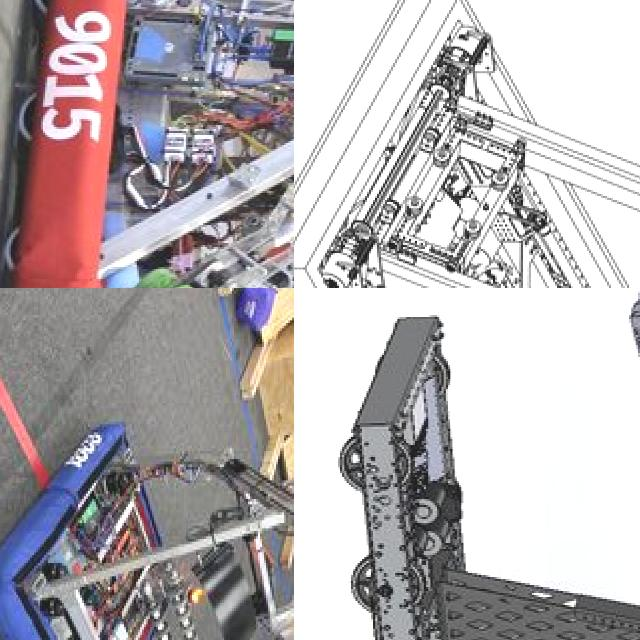FRC-Robots: (294, 288, 640, 640), (294, 0, 640, 288), (2, 0, 294, 288), (0, 467, 294, 640)
